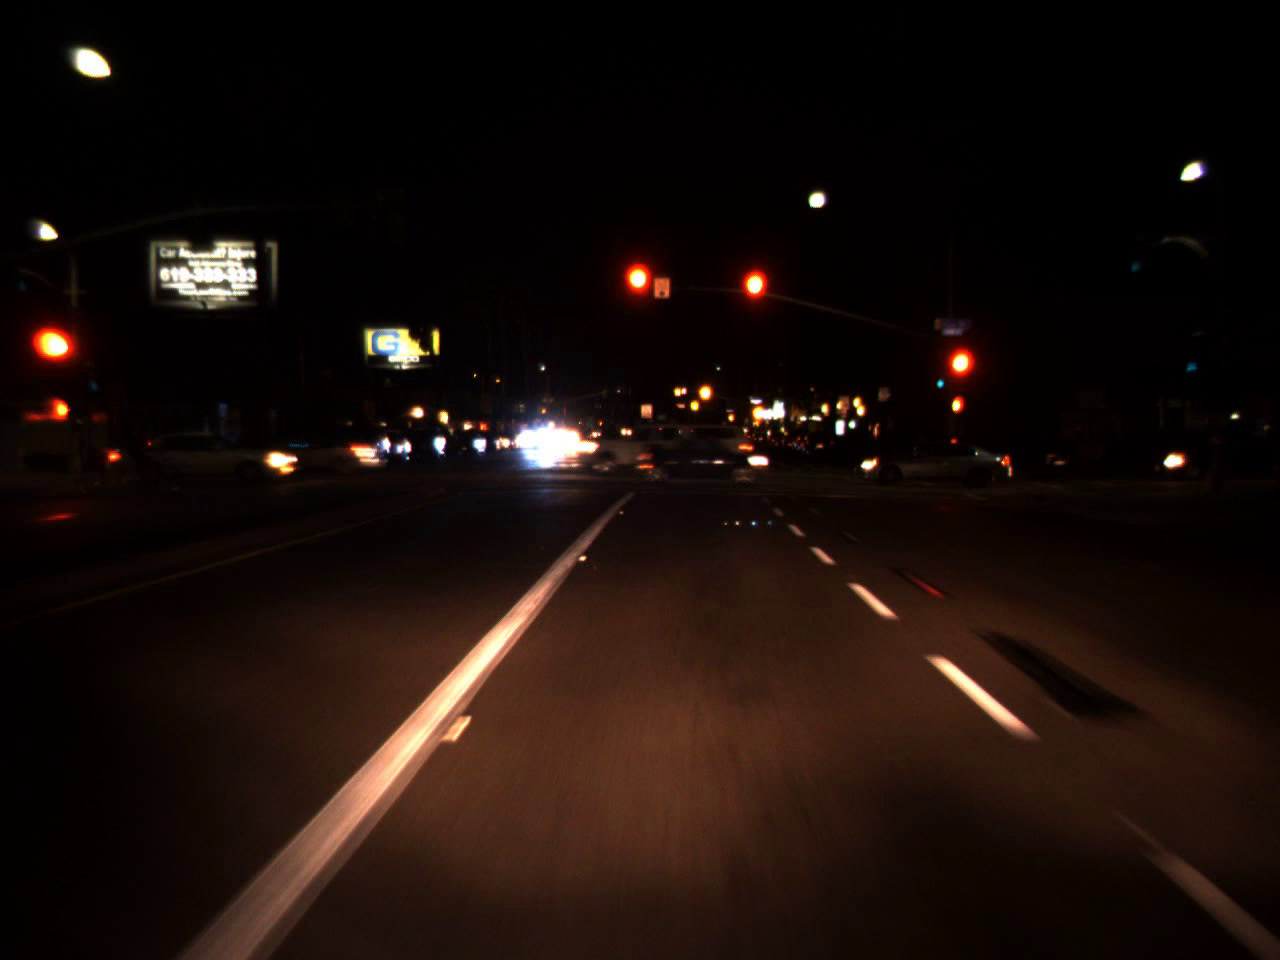stop: (35, 326, 78, 393), (620, 256, 656, 334), (944, 343, 980, 413), (738, 265, 772, 335)
warning: (696, 374, 714, 409), (750, 394, 766, 431), (689, 393, 701, 415), (727, 407, 734, 427)
